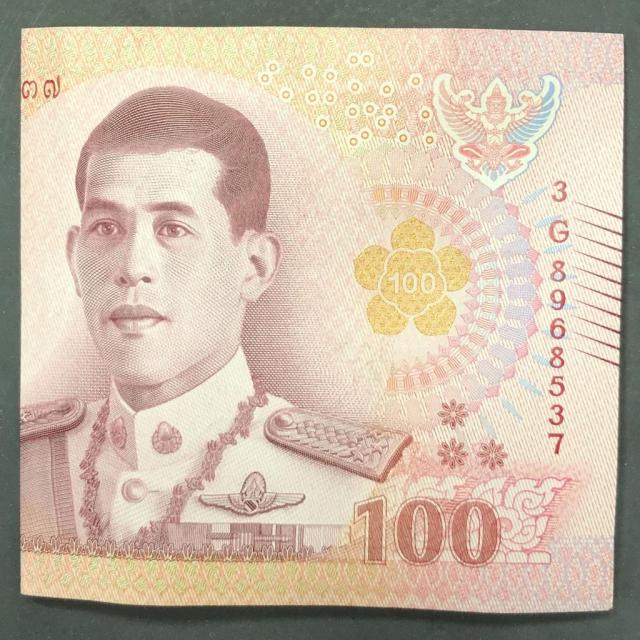THAI100: (20, 28, 624, 614)
